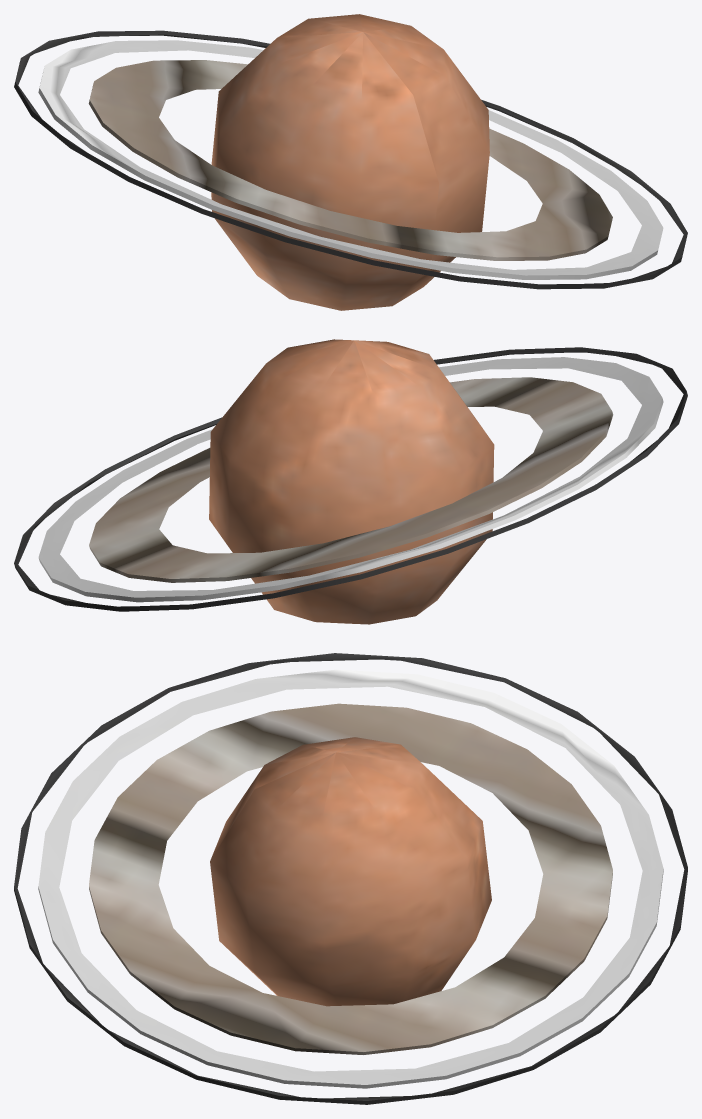
The model's file is Colony_Planet_01_Art.fbx.
3 renders of one model, top to bottom at view 1: azimuth 30°, elevation 25°; view 2: azimuth 150°, elevation 25°; view 3: azimuth 270°, elevation 25°, orthographic. The views are drawn at different scales.
Visible parts, largest first — view 1: Colony_Planet_Art; view 2: Colony_Planet_Art; view 3: Colony_Planet_Art.
Part boxes in pixels (x1,y1,x2,y2): Colony_Planet_Art: (14,14,687,310); Colony_Planet_Art: (14,339,687,624); Colony_Planet_Art: (14,653,687,1104).
Size of the model in its own units: 445 by 199 by 464.
